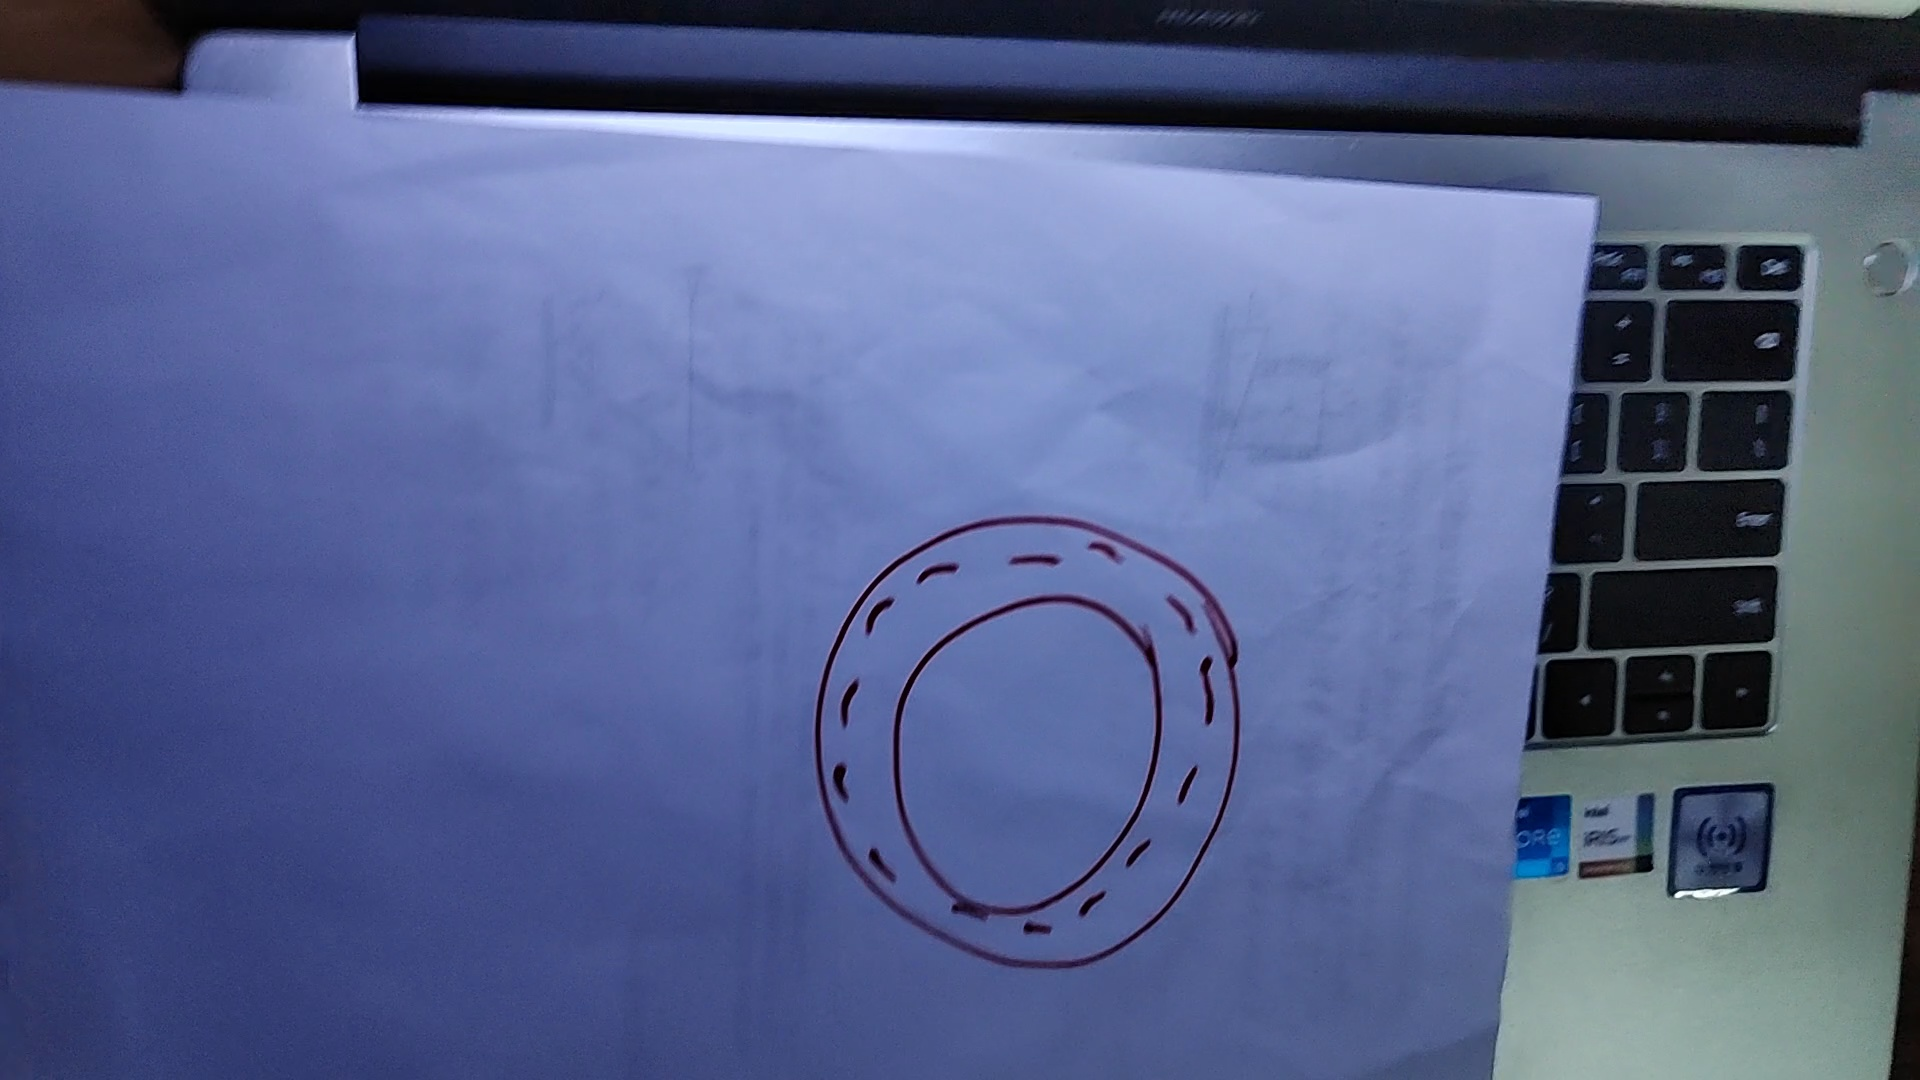circle: (814, 517, 1244, 968)
